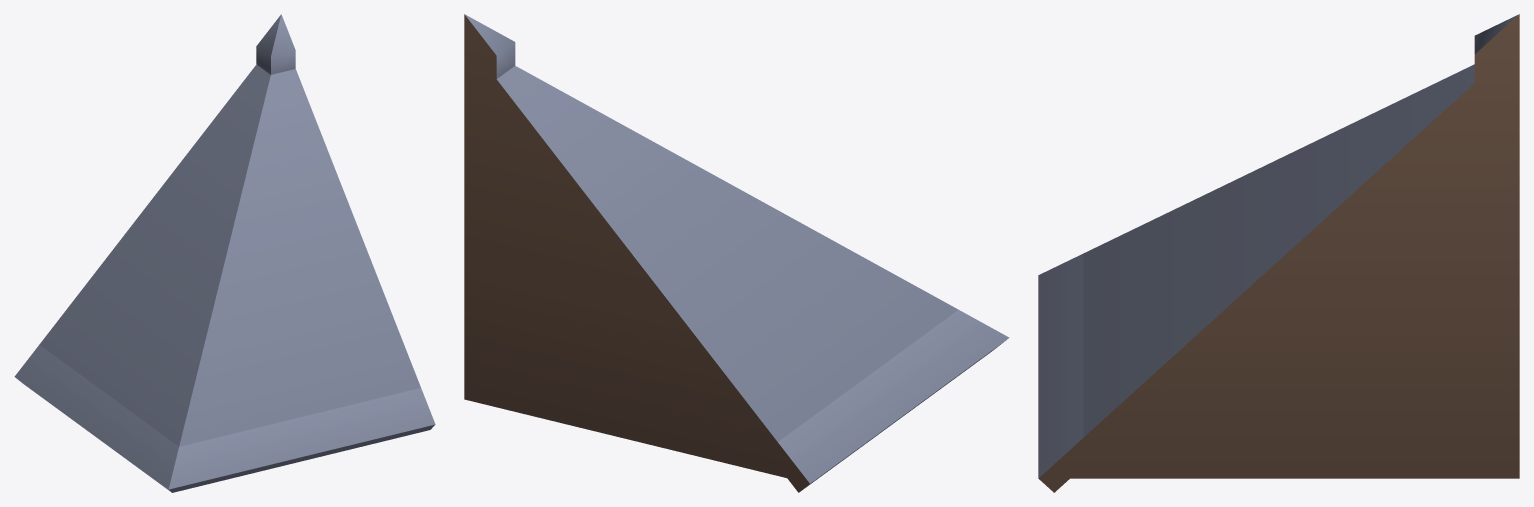
The model's file is roof-high-corner.glb.
3 renders of one model, left to right at view 1: azimuth 30°, elevation 25°; view 2: azimuth 150°, elevation 25°; view 3: azimuth 270°, elevation 25°, orthographic. The views are drawn at different scales.
Parts seen in each view (by area): view 1: roof-high-corner; view 2: roof-high-corner; view 3: roof-high-corner.
Boxes of the visible parts, x1,y1,x2,y2 form: roof-high-corner: [14, 14, 435, 492]; roof-high-corner: [464, 14, 1009, 492]; roof-high-corner: [1038, 14, 1519, 492].
Bounding box in the file's own units: 1.07 × 1.18 × 1.07.
Materials: 1 (1 with a texture image).
